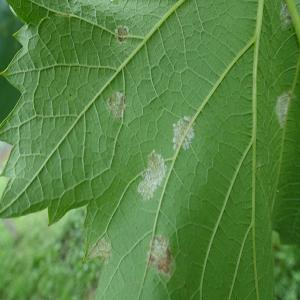Folha: (0, 0, 299, 298)
Fungo: (136, 149, 167, 201), (146, 232, 174, 276), (82, 236, 112, 264), (172, 115, 194, 152), (106, 90, 127, 120), (275, 90, 291, 129), (114, 24, 129, 43)
